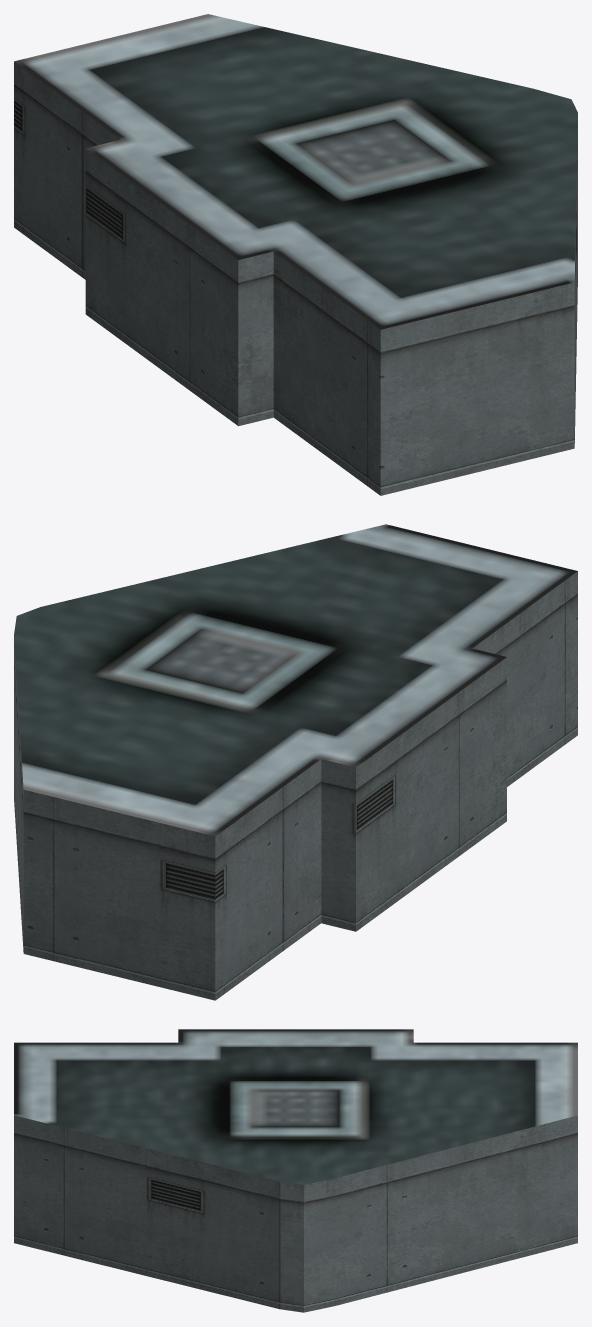
Rendered from medium_roof06.glb.
The picture shows the model from 3 angles, top to bottom: view 1: azimuth 30°, elevation 25°; view 2: azimuth 150°, elevation 25°; view 3: azimuth 270°, elevation 25°; orthographic projection. The views are drawn at different scales.
Parts seen in each view (by area): view 1: buildings/saxarba/medium/medium_roof06; view 2: buildings/saxarba/medium/medium_roof06; view 3: buildings/saxarba/medium/medium_roof06.
Boxes of the visible parts, x1,y1,x2,y2 form: buildings/saxarba/medium/medium_roof06: (14,14,577,495); buildings/saxarba/medium/medium_roof06: (14,524,577,1000); buildings/saxarba/medium/medium_roof06: (14,1029,577,1312).
Size of the model in its own units: 47 by 18 by 72.
